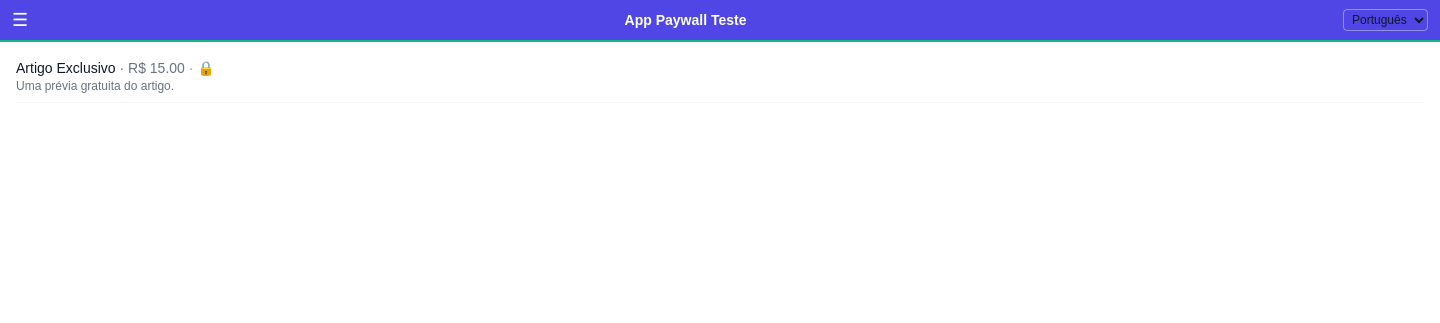
Test: AppRuntime conteudo_pago module (public mode) › shows an unlock button with price for a locked item, not the full body
Check: the text "Artigo Exclusivo" is shown, box [16, 60, 116, 76]
Click the text "Artigo Exclusivo". click: (115, 68)
box: [16, 60, 215, 76]
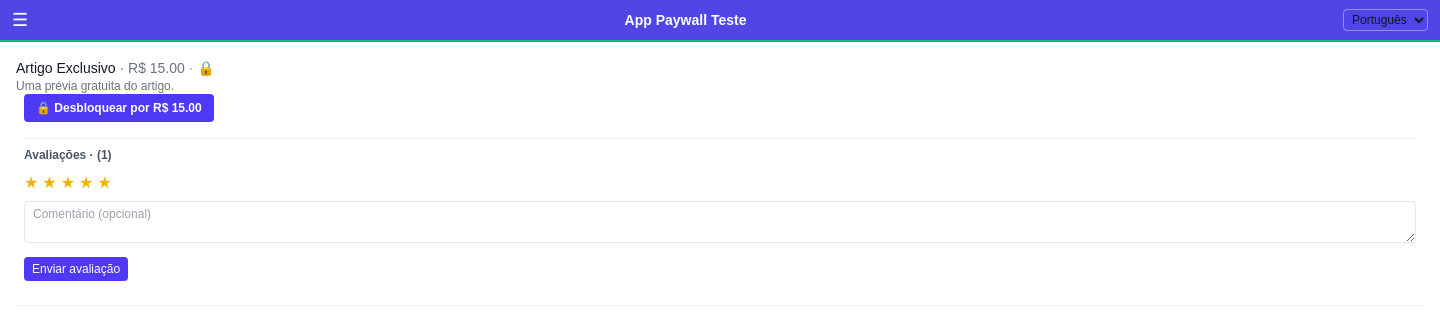
Check: the button "🔒 Desbloquear por R$ 15.00" is shown, box [24, 94, 214, 122]
